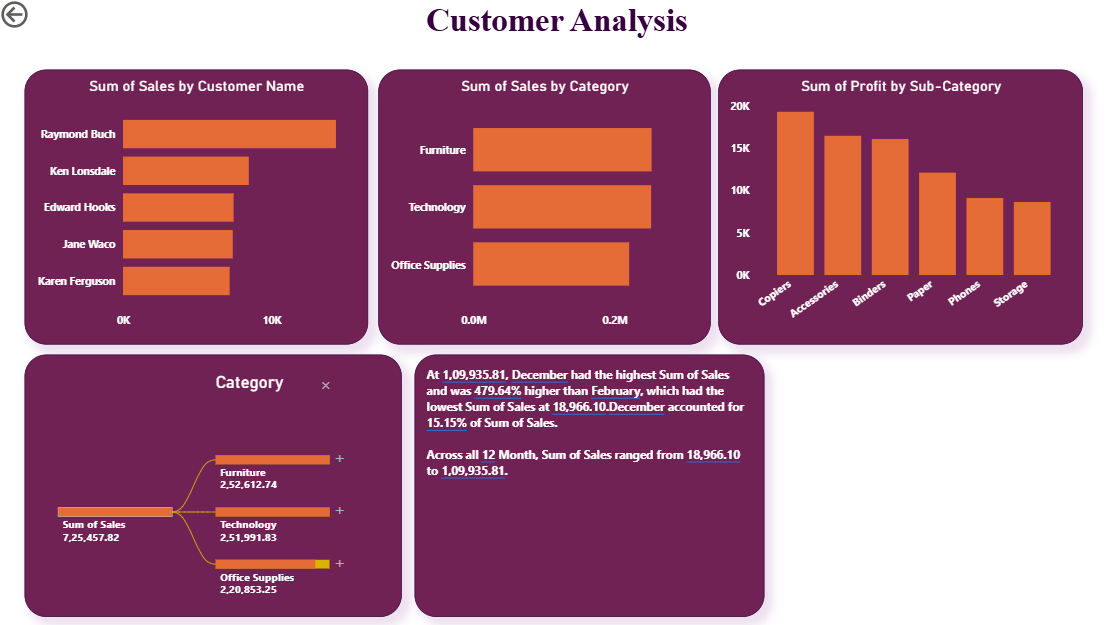

The dashboard page shown, as its layout file describes it:
{"tool":"powerbi","page":{"name":"Page 2","canvas":[1280,720],"ordinal":1},"visuals":[{"type":"textbox","box":[424,0,430.9,57.6],"z":0},{"type":"actionButton","box":[0,0,100,40],"z":1},{"type":"barChart","fields":{"Category":["Table.Customer Name"],"Y":["Sum(Table.Sales)"]},"box":[31.6,82.3,392.5,314.2],"z":2},{"type":"clusteredBarChart","fields":{"Y":["Sum(Table.Sales)"],"Category":["Table.Category"]},"box":[435.7,82.9,380,314.3],"z":3},{"type":"columnChart","fields":{"Category":["Table.Sub-Category"],"Y":["Sum(Table.Profit)"]},"box":[824.3,82.9,417.1,314.3],"z":4},{"type":"decompositionTreeVisual","fields":{"Analyze":["Sum(Table.Sales)"],"ExplainBy":["Table.Category","Table.Sub-Category","Table.Region","Table.Segment"]},"box":[31.4,408.6,431.4,300],"z":5},{"type":"textbox","box":[477.1,408.6,400,300],"z":6}]}

Visuals, with their boxes in screenshot pixels (x1, y1, x2, y2), scaled from the page's 1280x720 canvas onto the 1113x625 screenshot:
textbox: (369, 0, 743, 50)
actionButton: (0, 0, 87, 35)
barChart - Table.Customer Name x Sum(Table.Sales): (27, 71, 369, 344)
clusteredBarChart - Sum(Table.Sales) x Table.Category: (379, 72, 709, 345)
columnChart - Table.Sub-Category x Sum(Table.Profit): (717, 72, 1079, 345)
decompositionTreeVisual - Sum(Table.Sales) x Table.Category: (27, 355, 402, 615)
textbox: (415, 355, 763, 615)
